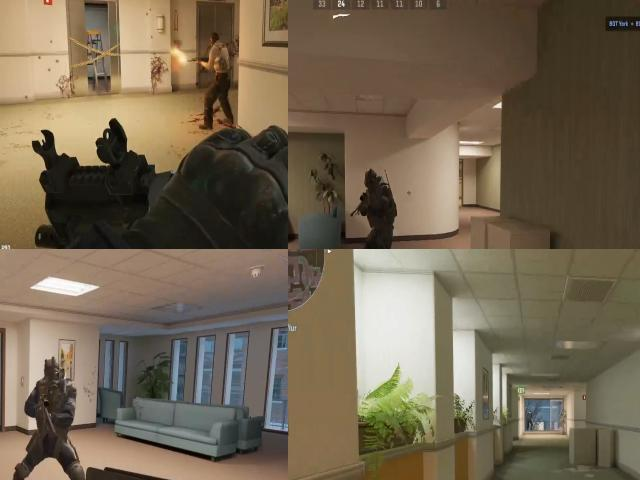CT: (31, 349, 76, 466), (360, 161, 396, 249), (526, 407, 534, 432)
CT-Head: (44, 358, 62, 396), (362, 167, 382, 193)
T: (200, 25, 235, 103)
T-Head: (203, 29, 224, 52)
